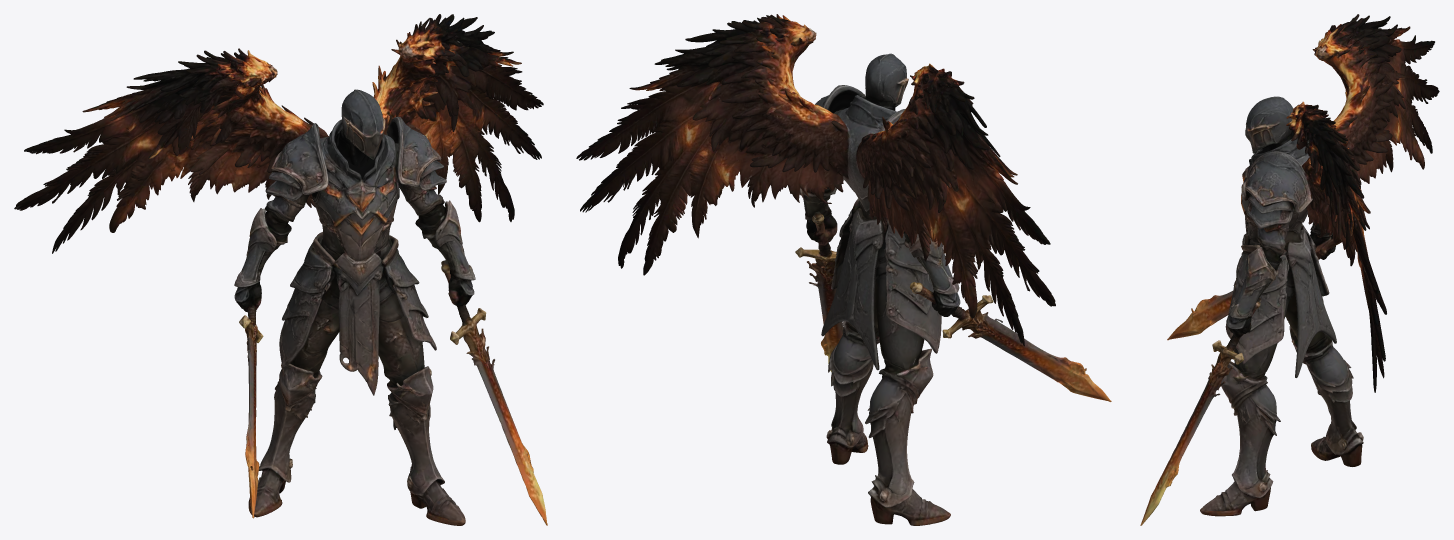
The model's file is ember_winged_fallen_angel_warrior.light.glb.
3 renders of one model, left to right at view 1: azimuth 30°, elevation 25°; view 2: azimuth 150°, elevation 25°; view 3: azimuth 270°, elevation 25°, orthographic. The views are drawn at different scales.
Visible parts, largest first — view 1: tripo_node_e5b85d13_tripo_mat_e5b85d13_0; view 2: tripo_node_e5b85d13_tripo_mat_e5b85d13_0; view 3: tripo_node_e5b85d13_tripo_mat_e5b85d13_0.
Boxes of the visible parts, <box> form: tripo_node_e5b85d13_tripo_mat_e5b85d13_0: <box>14,14,547,525</box>; tripo_node_e5b85d13_tripo_mat_e5b85d13_0: <box>576,14,1111,525</box>; tripo_node_e5b85d13_tripo_mat_e5b85d13_0: <box>1140,14,1439,525</box>.
Bounding box in the file's own units: 0.9772 × 0.852 × 0.5477.
Materials: 1 (1 with a texture image).
